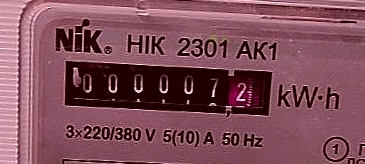0: (80, 72, 96, 97), (157, 74, 173, 98), (132, 73, 147, 97), (182, 74, 197, 98), (106, 73, 121, 96)
2: (235, 82, 249, 106)
7: (208, 76, 222, 101)
screen: (53, 49, 284, 130)
